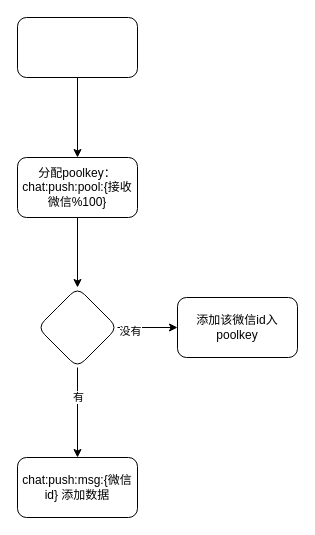
Some shapes in this 315 by 535 pixel diagram are drawn without their labels. The shapes that lost their labels are listed below. From the top down, each one's centre as x and y in pixels, then its label:
pixel 77 47: 收到消息
pixel 77 327: 判断poolKey是否有垓微信id
